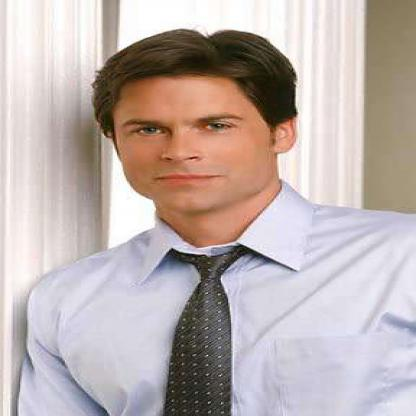face: (106, 42, 278, 214)
